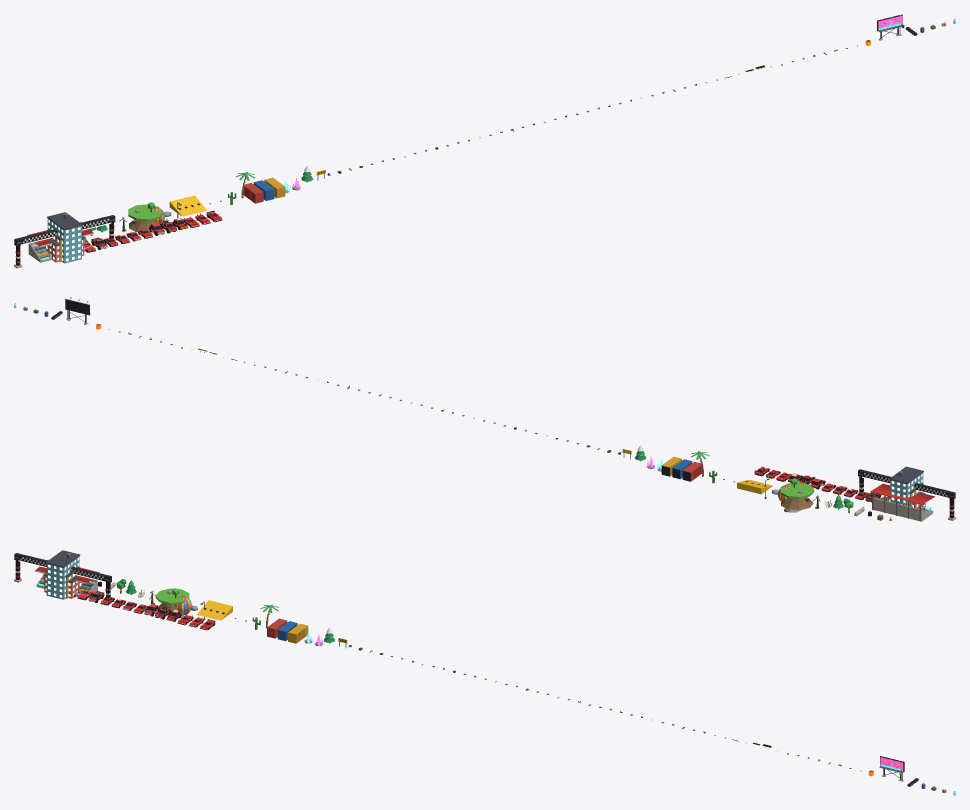
File: minicars.glb
3 renders of one model, top to bottom at view 1: azimuth 30°, elevation 25°; view 2: azimuth 150°, elevation 25°; view 3: azimuth 330°, elevation 25°, orthographic. The views are drawn at different scales.
Parts seen in each view (by area): view 1: prop_bldgB, prop_gate, prop_island, prop_stand; view 2: prop_stand, prop_bldgB, prop_gate, prop_island; view 3: prop_bldgB, prop_gate, prop_island.
Boxes of the visible parts, x1,y1,x2,y2 form: prop_bldgB: (47,212,82,263); prop_gate: (14,215,115,268); prop_island: (128,202,163,233); prop_stand: (27,222,94,262); prop_stand: (870,483,935,521); prop_bldgB: (889,466,923,506); prop_gate: (858,469,955,520); prop_island: (780,478,814,512); prop_bldgB: (46,550,80,599); prop_gate: (14,553,112,604); prop_island: (155,588,189,618).
Bounding box in the file's own units: 266 × 14.85 × 16.51.
